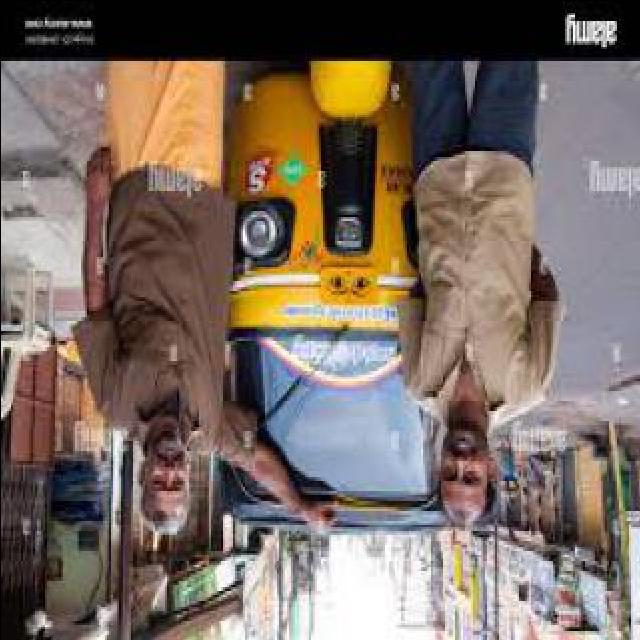Autorickshaw: (204, 60, 496, 534)
